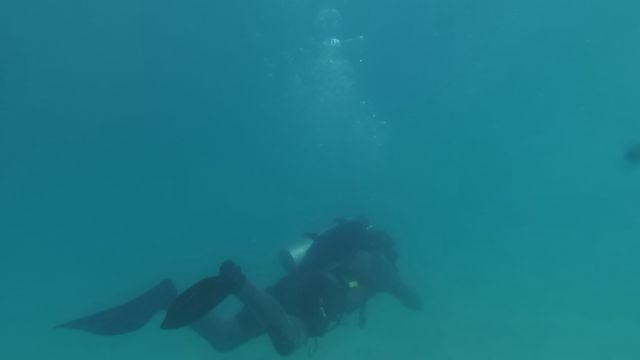Diver: (66, 190, 436, 353)
